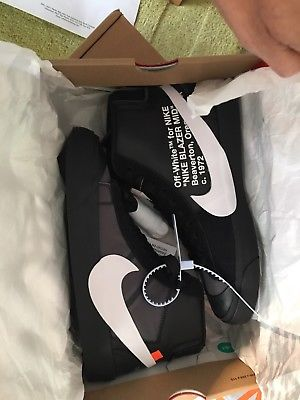Nike Blazer Grim Reaper: (49, 103, 212, 377), (103, 66, 270, 333)
